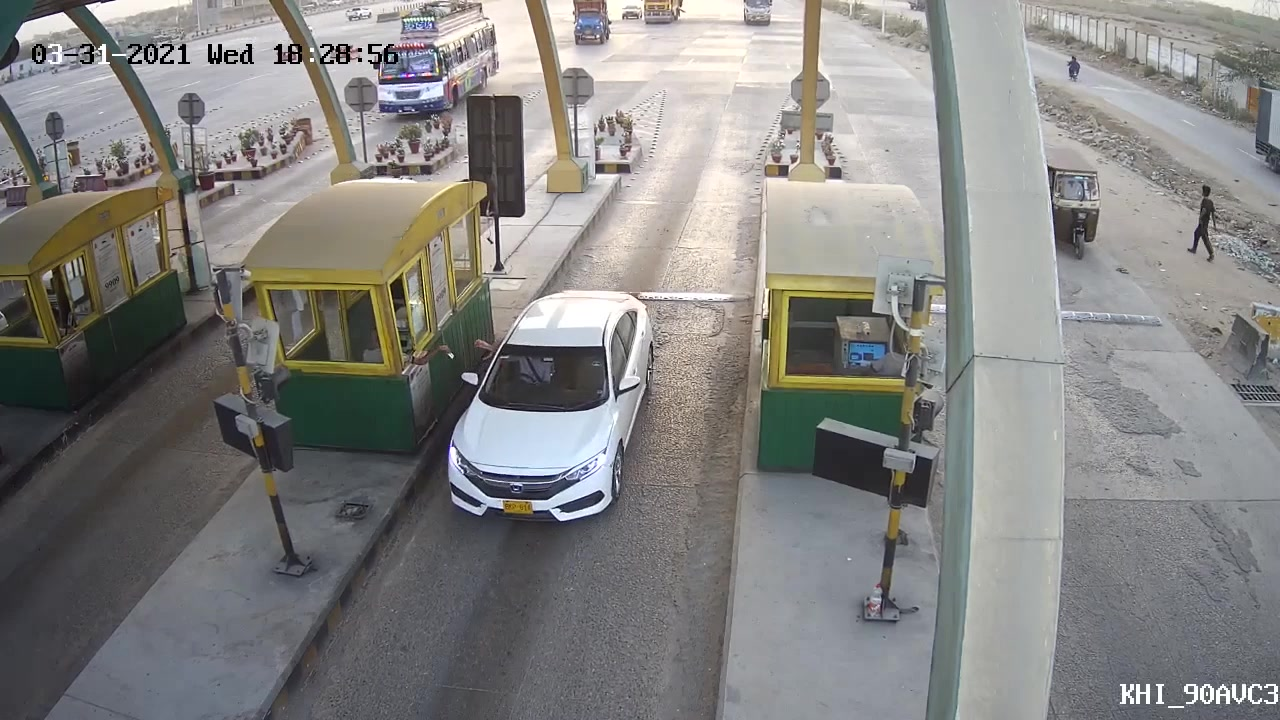F1: (441, 277, 666, 524)
